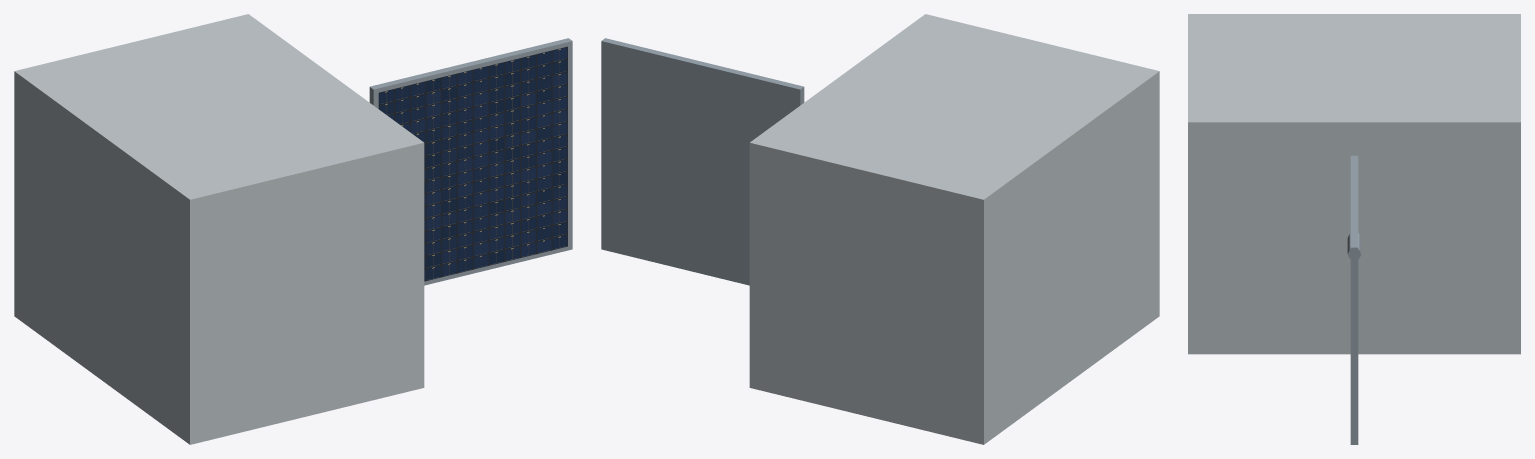
Rendered from ref-micro-38998.glb.
The picture shows the model from 3 angles, left to right: view 1: azimuth 30°, elevation 25°; view 2: azimuth 150°, elevation 25°; view 3: azimuth 270°, elevation 25°; orthographic projection. The views are drawn at different scales.
Parts seen in each view (by area): view 1: Spacecraft body, Photovoltaic laminates, Array frame; view 2: Spacecraft body, Array frame; view 3: Spacecraft body, Array frame.
Part boxes in pixels (x1,y1,x2,y2): Spacecraft body: [14, 14, 424, 444]; Photovoltaic laminates: [378, 46, 567, 281]; Array frame: [369, 38, 572, 285]; Spacecraft body: [749, 14, 1159, 444]; Array frame: [601, 38, 804, 285]; Spacecraft body: [1188, 14, 1520, 354]; Array frame: [1350, 155, 1358, 444].
Bounding box in the file's own units: 2 × 1 × 1.3.
3 materials, 1 textured.
